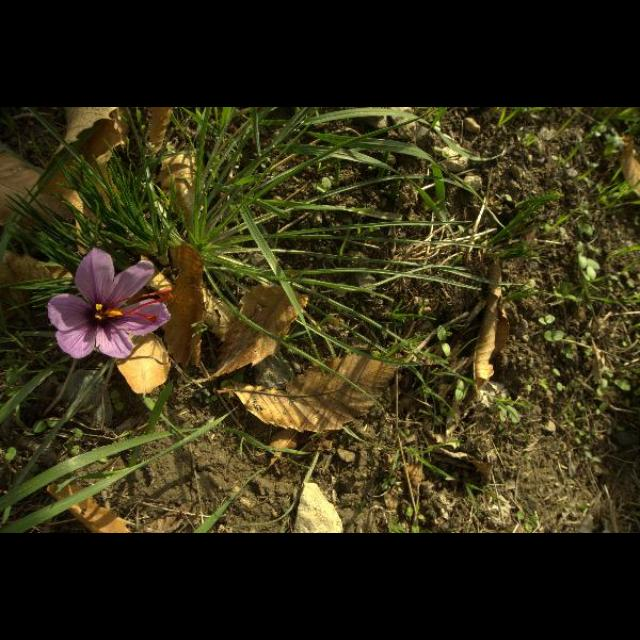flower: (48, 248, 174, 360)
